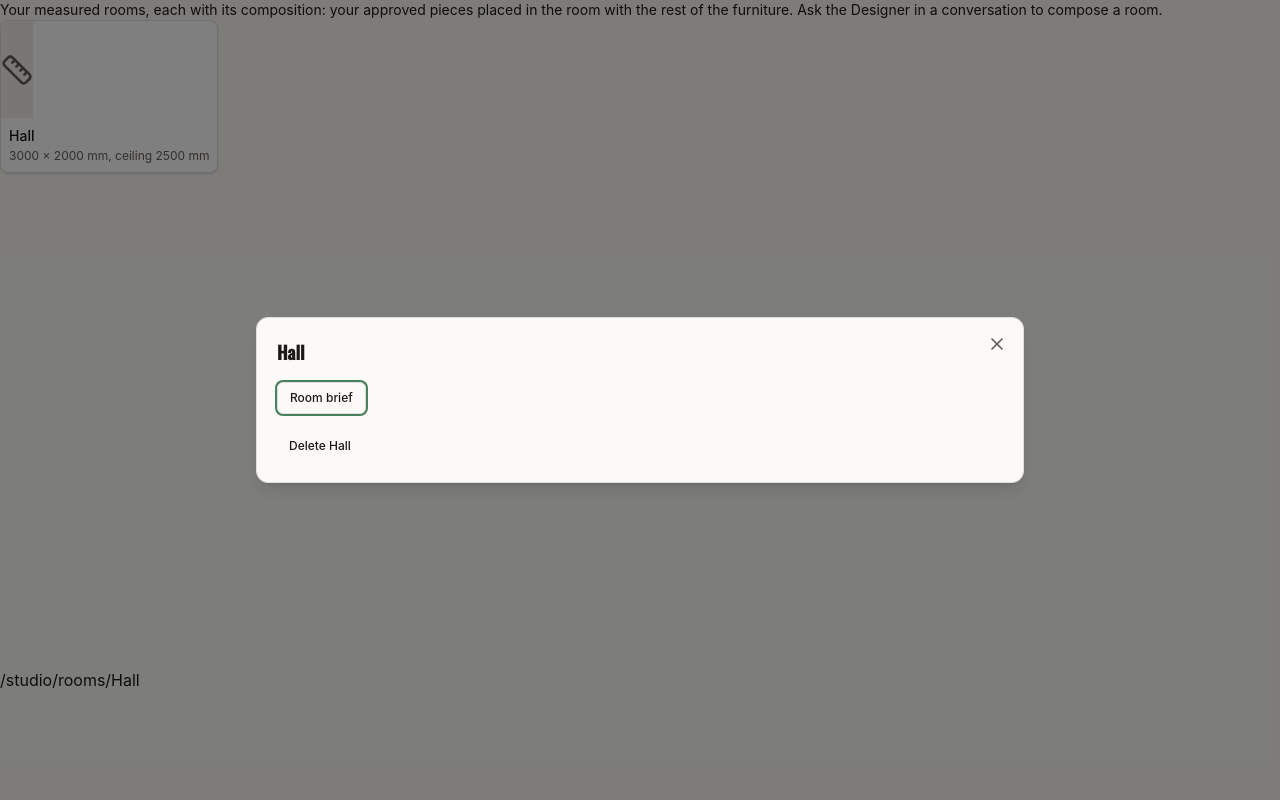
Test case: a measured room's size, ceiling, openings and pieces open from its Room brief button
Expected: the heading "Hall" is shown, left=277, top=338, right=304, bottom=366
Expected: the text "3000 × 2000 mm, ceiling 2500 mm, 1 opening" is not shown
What coordinates should you click on to do the following:
click the button "Room brief"
I would click on:
 (321, 398)
Its box is left=277, top=382, right=366, bottom=414.
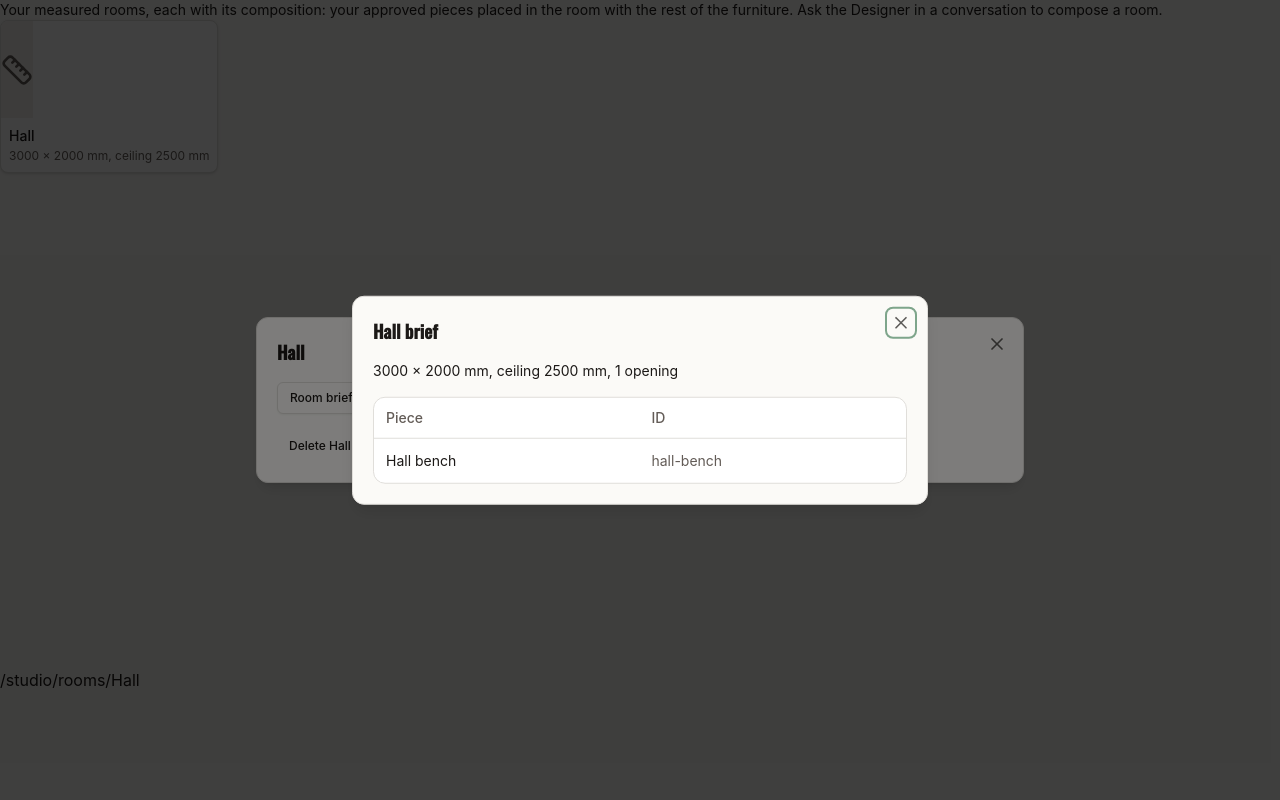
Expected: the text "3000 × 2000 mm, ceiling 2500 mm, 1 opening" is shown, left=373, top=362, right=678, bottom=379
Expected: the rows read "PieceID", "Hall benchhall-bench", in this order, left=374, top=398, right=906, bottom=438; left=374, top=438, right=906, bottom=482
